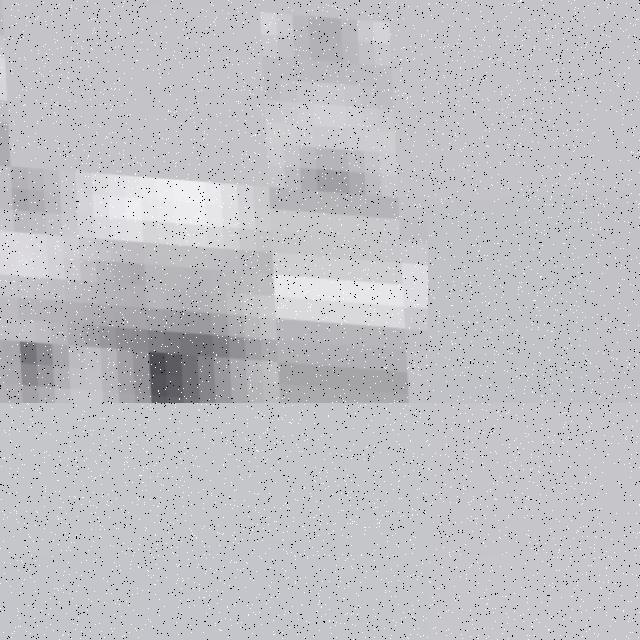drone: (0, 0, 428, 403)
